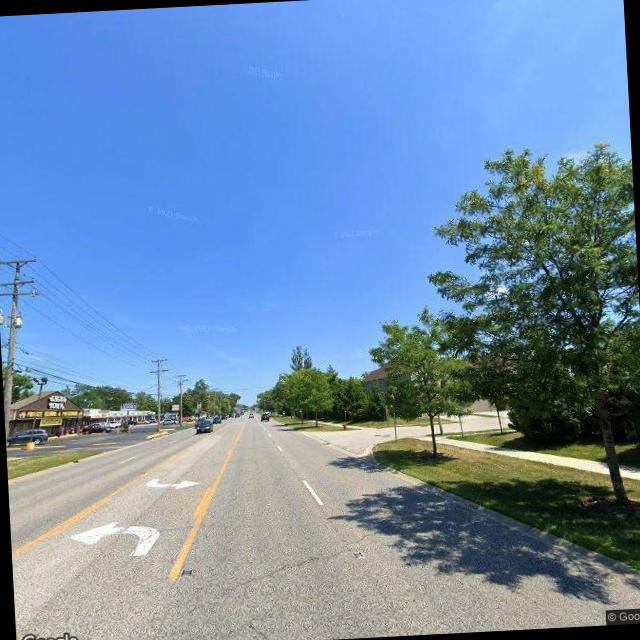crack: (224, 514, 428, 587)
